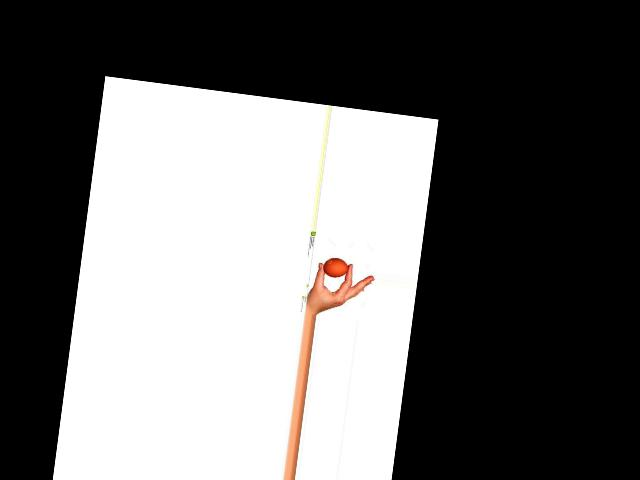egg: (321, 256, 349, 279)
